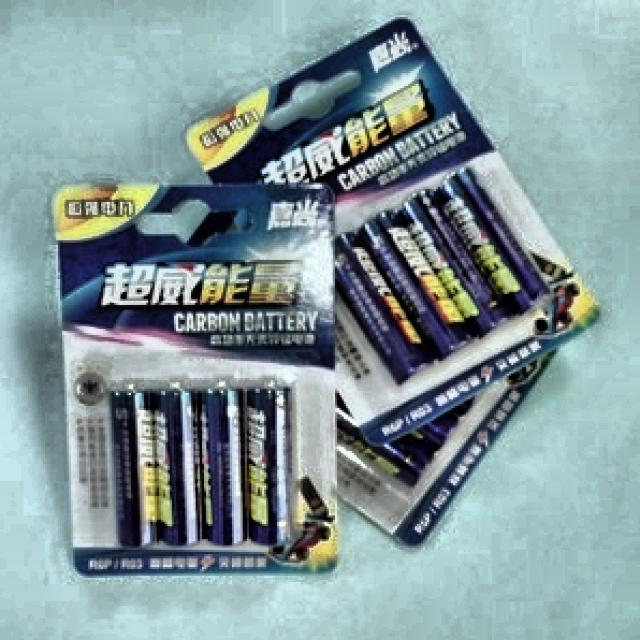Non-Valuable Waste - Batteries: (337, 169, 549, 382), (110, 388, 292, 547)
